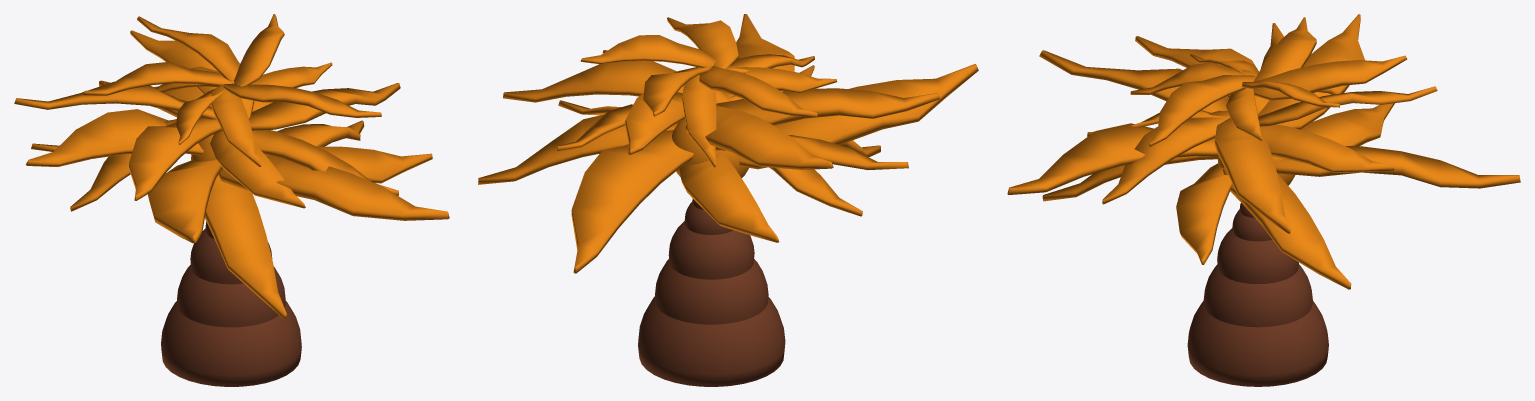
The model's file is Baum.002.fbx.
The picture shows the model from 3 angles, left to right: view 1: azimuth 30°, elevation 25°; view 2: azimuth 150°, elevation 25°; view 3: azimuth 270°, elevation 25°; orthographic projection. The views are drawn at different scales.
Parts seen in each view (by area): view 1: Sphere.028; view 2: Sphere.028; view 3: Sphere.028.
Boxes of the visible parts, x1=… form: Sphere.028: x1=14, y1=14, x2=449, y2=386; Sphere.028: x1=478, y1=14, x2=978, y2=386; Sphere.028: x1=1007, y1=14, x2=1520, y2=386.
Bounding box in the file's own units: 306 × 231 × 356.
